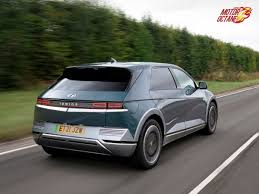Honda Ioniq: (22, 50, 223, 174)
